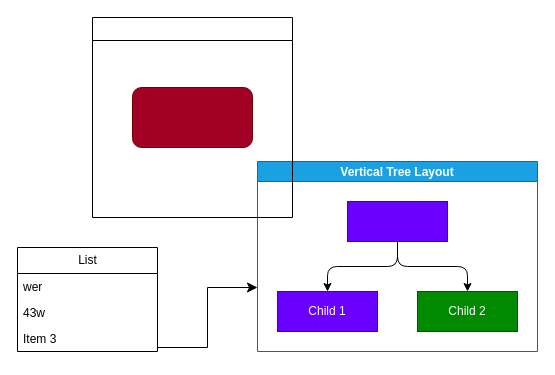
This 555x375 diagram has some shape labels left out. The shapes that lost their labels are listed below. From the top down, each one's centre as x and y in pixels, then its label:
At [192,117]: "Vertical Container".
At [397,221]: "Root".
